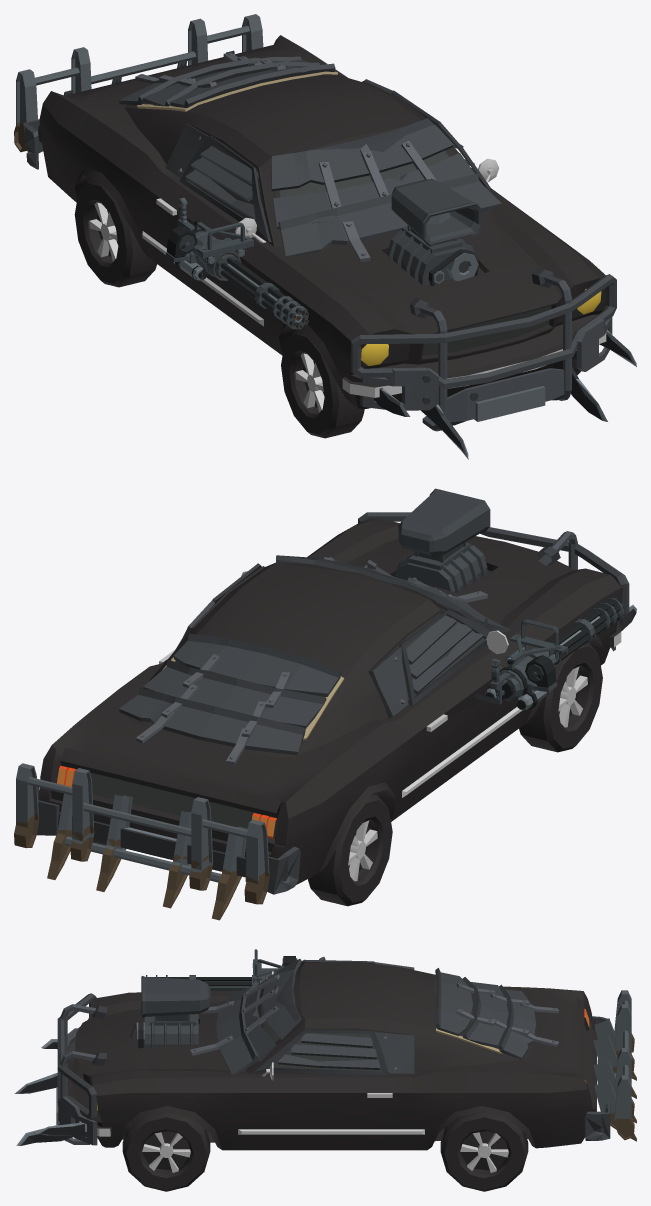
The model's file is MustangWithWeapon.fbx.
The picture shows the model from 3 angles, top to bottom: view 1: azimuth 30°, elevation 25°; view 2: azimuth 150°, elevation 25°; view 3: azimuth 270°, elevation 25°; orthographic projection. The views are drawn at different scales.
Parts seen in each view (by area): view 1: MustangwithWeapon; view 2: MustangwithWeapon; view 3: MustangwithWeapon.
Boxes of the visible parts, x1,y1,x2,y2 form: MustangwithWeapon: (14,14,636,459); MustangwithWeapon: (14,488,636,920); MustangwithWeapon: (14,949,636,1191).
Bounding box in the file's own units: 2.74 × 1.69 × 5.96.
Materials: 2 (2 with a texture image).
